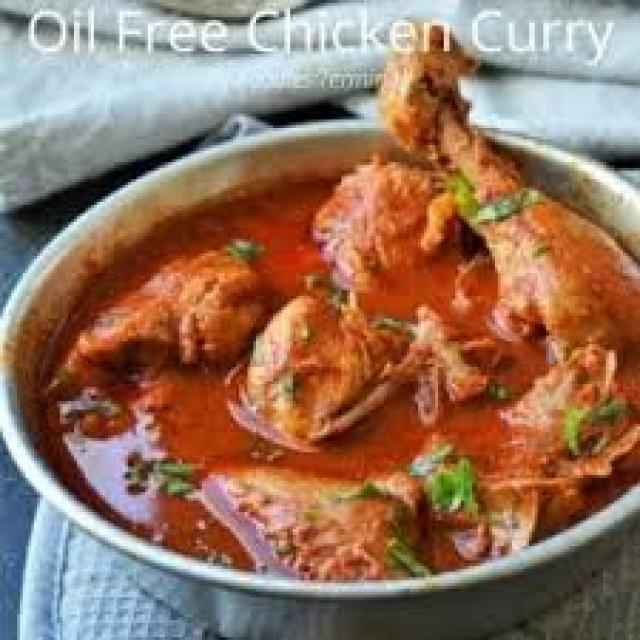Chicken Curry: (48, 31, 640, 586)
